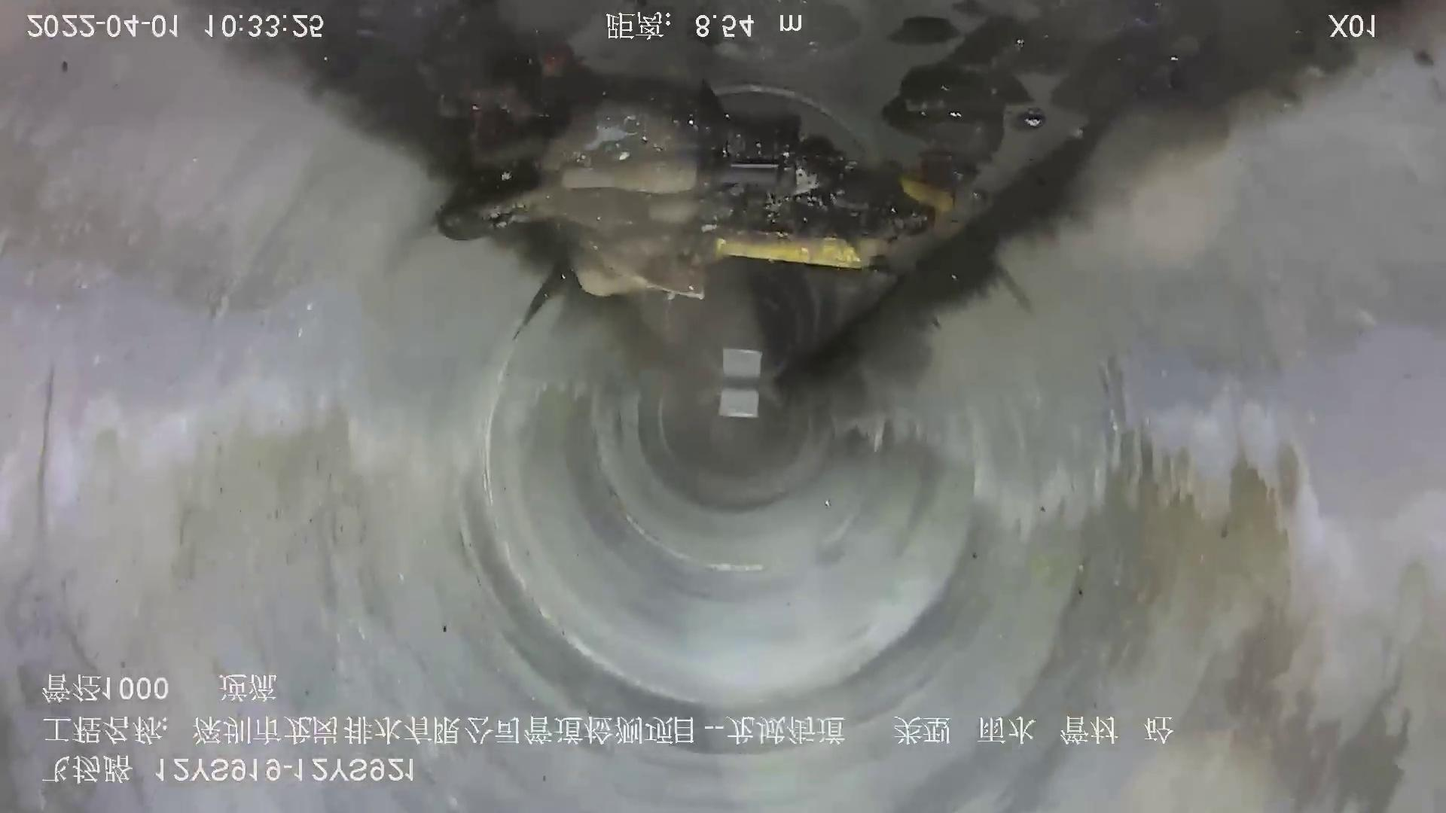ZAW: (438, 95, 953, 298)
